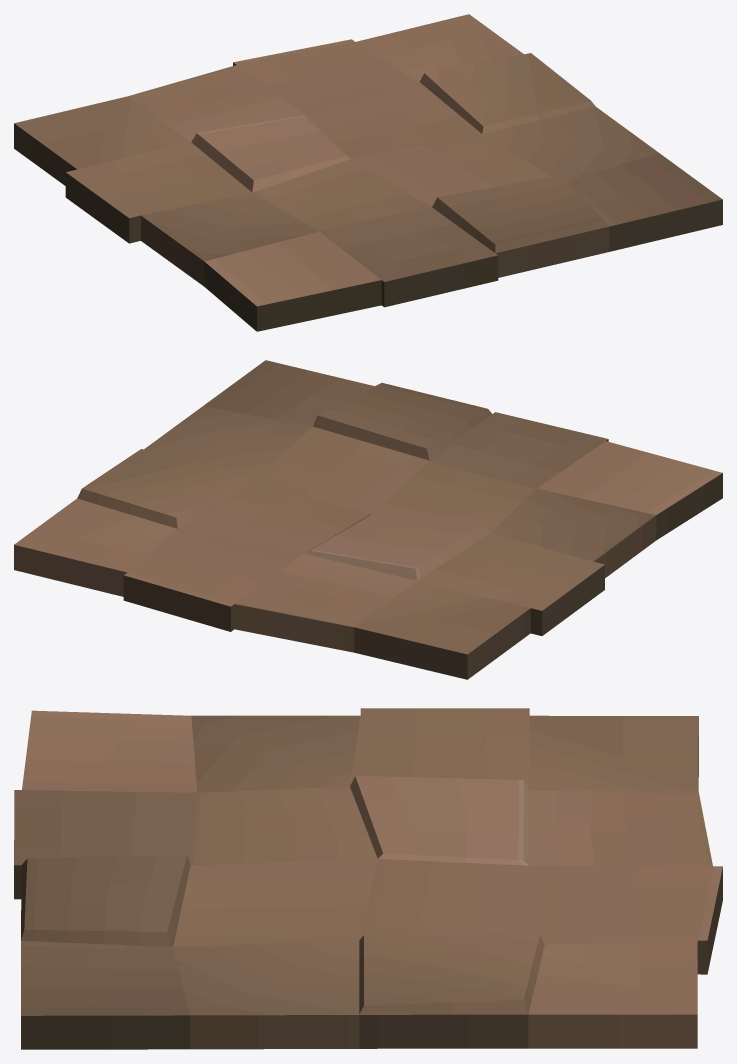
Rendered from Tiles.FBX.
The picture shows the model from 3 angles, top to bottom: view 1: azimuth 30°, elevation 25°; view 2: azimuth 150°, elevation 25°; view 3: azimuth 270°, elevation 25°; orthographic projection. The views are drawn at different scales.
Parts seen in each view (by area): view 1: Tiles; view 2: Tiles; view 3: Tiles.
Part boxes in pixels (bbox=[...]): Tiles: bbox=[14, 14, 722, 331]; Tiles: bbox=[14, 360, 722, 679]; Tiles: bbox=[14, 708, 722, 1049].
Size of the model in its own units: 0.5784 by 0.5684 by 0.0436.
